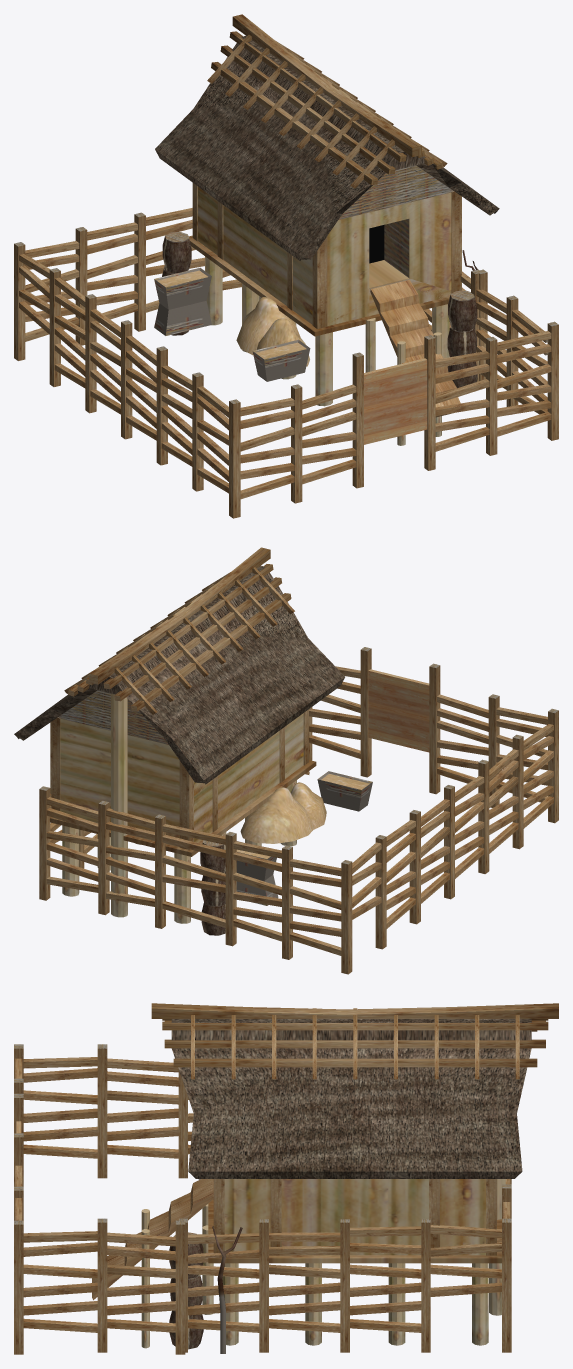
The model's file is yayoi_corral.dae.
3 views of the same model, one above another, from view 1: azimuth 30°, elevation 25°; view 2: azimuth 150°, elevation 25°; view 3: azimuth 270°, elevation 25° (orthographic). The views are drawn at different scales.
Parts seen in each view (by area): view 1: corral.001; view 2: corral.001; view 3: corral.001.
Part boxes in pixels (x1,y1,x2,y2): corral.001: (14,14,558,518); corral.001: (14,547,558,974); corral.001: (14,1003,558,1354).
Size of the model in its own units: 14.83 by 17.98 by 12.02.
1 material, 1 textured.
